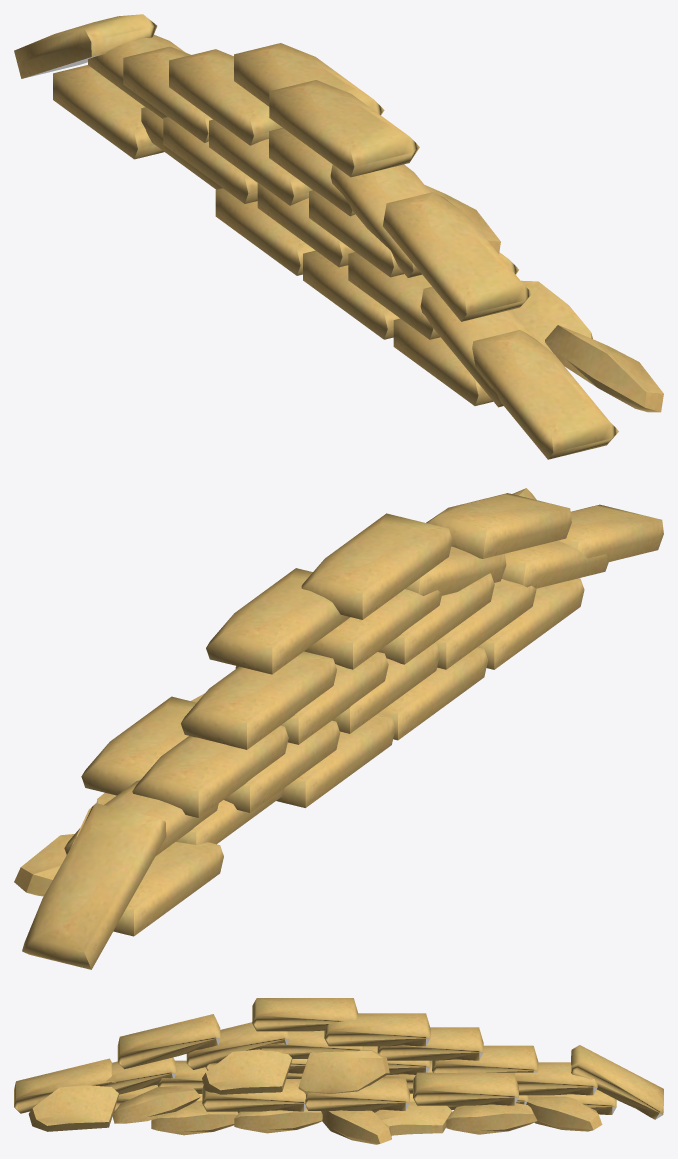
File: sandBag.obj
3 renders of one model, top to bottom at view 1: azimuth 30°, elevation 25°; view 2: azimuth 150°, elevation 25°; view 3: azimuth 270°, elevation 25°, orthographic. The views are drawn at different scales.
Parts seen in each view (by area): view 1: Mesh12 Sand_Bag10 Model, Mesh9 Sand_Bag8 Model, Mesh30 Sand_Bag21 Model, Mesh24 Sand_Bag18 Model, Mesh21 Sand_Bag15 Model, Mesh3 sand_bag_2_1_1 Model, Mesh28 Sand_Bag19 Model, Mesh7 Sand_Bag6 Model, Mesh11 Sand_Bag9 Model, Mesh5 Sand_Bag4 Model, Mesh18 Sand_Bag13 Model, Mesh34 Sand_Bag24 Model (+12 smaller); view 2: Mesh28 Sand_Bag19 Model, Mesh30 Sand_Bag21 Model, Mesh24 Sand_Bag18 Model, Mesh7 Sand_Bag6 Model, Mesh5 Sand_Bag4 Model, Mesh12 Sand_Bag10 Model, Mesh33 Sand_Bag23 Model, Mesh21 Sand_Bag15 Model, Mesh19 Sand_Bag14 Model, Mesh9 Sand_Bag8 Model, Mesh34 Sand_Bag24 Model, Mesh31 Sand_Bag22 Model (+11 smaller); view 3: Mesh33 Sand_Bag23 Model, Mesh12 Sand_Bag10 Model, Mesh3 sand_bag_2_1_1 Model, Mesh32 sand_bag_2_1_10 Model, Mesh10 sand_bag_2_1_2 Model, Mesh7 Sand_Bag6 Model, Mesh30 Sand_Bag21 Model, Mesh28 Sand_Bag19 Model, Mesh24 Sand_Bag18 Model, Mesh22 Sand_Bag16 Model, Mesh9 Sand_Bag8 Model, Mesh26 sand_bag_2_1_8 Model (+18 smaller).
Boxes of the visible parts, x1,y1,x2,y2 form: Mesh12 Sand_Bag10 Model: [383, 192, 532, 321]; Mesh9 Sand_Bag8 Model: [472, 330, 618, 459]; Mesh30 Sand_Bag21 Model: [269, 80, 419, 177]; Mesh24 Sand_Bag18 Model: [169, 49, 282, 145]; Mesh21 Sand_Bag15 Model: [53, 65, 163, 159]; Mesh3 sand_bag_2_1_1 Model: [545, 325, 663, 412]; Mesh28 Sand_Bag19 Model: [14, 14, 157, 78]; Mesh7 Sand_Bag6 Model: [234, 43, 384, 115]; Mesh11 Sand_Bag9 Model: [330, 164, 430, 277]; Mesh5 Sand_Bag4 Model: [123, 46, 212, 142]; Mesh18 Sand_Bag13 Model: [420, 287, 534, 407]; Mesh34 Sand_Bag24 Model: [215, 188, 315, 275]; Mesh28 Sand_Bag19 Model: [22, 803, 166, 969]; Mesh30 Sand_Bag21 Model: [301, 513, 452, 619]; Mesh24 Sand_Bag18 Model: [181, 651, 336, 749]; Mesh7 Sand_Bag6 Model: [206, 568, 350, 674]; Mesh5 Sand_Bag4 Model: [132, 725, 288, 817]; Mesh12 Sand_Bag10 Model: [426, 493, 571, 558]; Mesh33 Sand_Bag23 Model: [81, 696, 196, 795]; Mesh21 Sand_Bag15 Model: [113, 842, 223, 936]; Mesh19 Sand_Bag14 Model: [304, 589, 441, 669]; Mesh9 Sand_Bag8 Model: [559, 504, 663, 561]; Mesh34 Sand_Bag24 Model: [276, 713, 395, 807]; Mesh31 Sand_Bag22 Model: [378, 647, 487, 740]; Mesh33 Sand_Bag23 Model: [413, 1072, 518, 1105]; Mesh12 Sand_Bag10 Model: [117, 1014, 220, 1069]; Mesh3 sand_bag_2_1_1 Model: [28, 1085, 118, 1131]; Mesh32 sand_bag_2_1_10 Model: [202, 1049, 292, 1094]; Mesh10 sand_bag_2_1_2 Model: [298, 1050, 389, 1094]; Mesh7 Sand_Bag6 Model: [324, 1013, 430, 1046]; Mesh30 Sand_Bag21 Model: [252, 998, 358, 1031]; Mesh28 Sand_Bag19 Model: [571, 1045, 663, 1119]; Mesh24 Sand_Bag18 Model: [377, 1027, 483, 1060]; Mesh22 Sand_Bag16 Model: [305, 1077, 409, 1110]; Mesh9 Sand_Bag8 Model: [14, 1058, 115, 1113]; Mesh26 sand_bag_2_1_8 Model: [446, 1103, 537, 1134].
Bounding box in the file's own units: 0.8477 × 0.7992 × 4.43.
2 materials, 1 textured.
